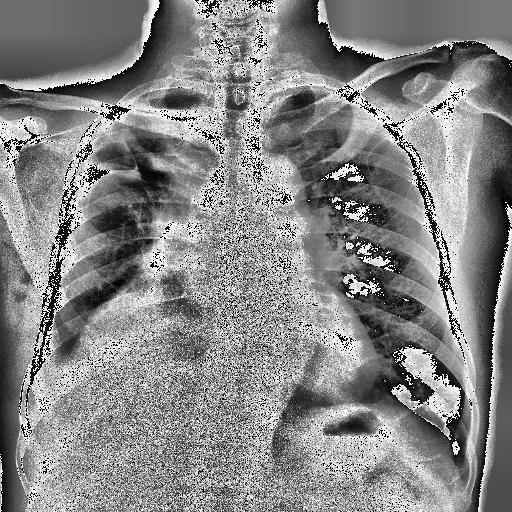1- Atelectasis: (52, 220, 208, 428), (55, 218, 200, 398), (75, 208, 205, 384)
10- Pleural effusion: (66, 166, 144, 216)
11- Pleural thickening: (381, 392, 396, 406)
13- Pulmonary fibrosis: (112, 135, 140, 171)
4- Consolidation: (55, 218, 200, 398), (75, 208, 205, 384)
7- Lung Opacity: (52, 220, 208, 428), (66, 166, 144, 216)
9- Other lesion: (84, 135, 144, 180)
